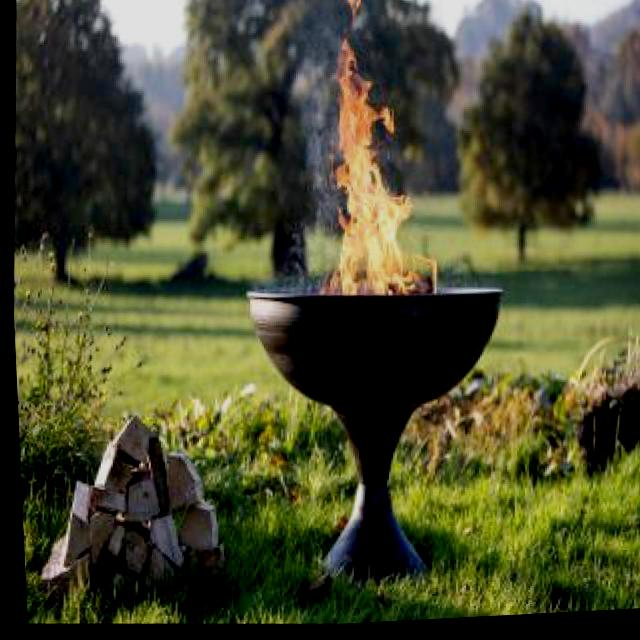Fire: (323, 53, 421, 287)
Smoke: (292, 27, 349, 227), (279, 221, 333, 295)
